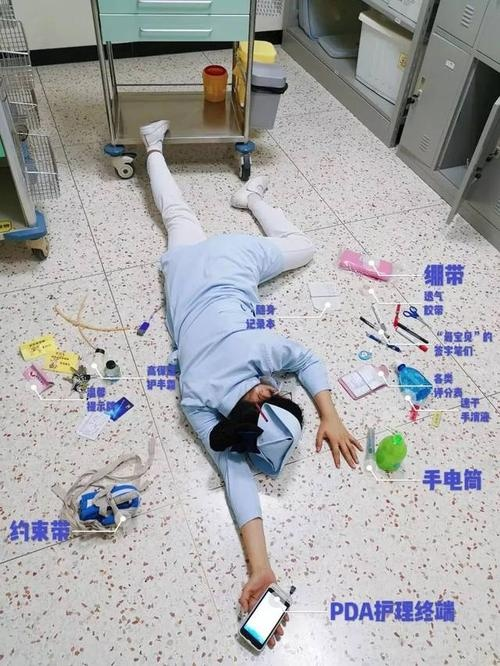falling: (126, 98, 360, 644)
